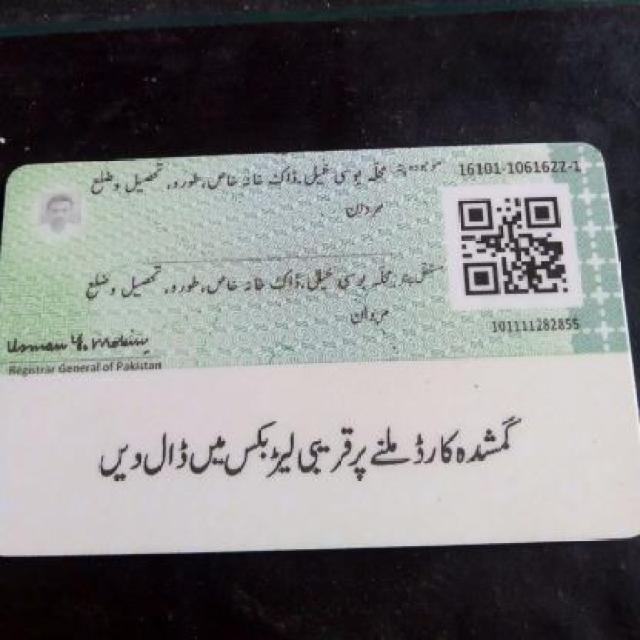Back: (0, 138, 631, 551)
